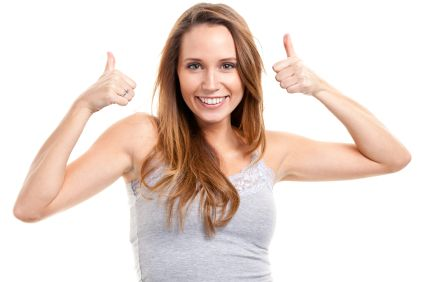without_mask: (180, 32, 238, 124)
